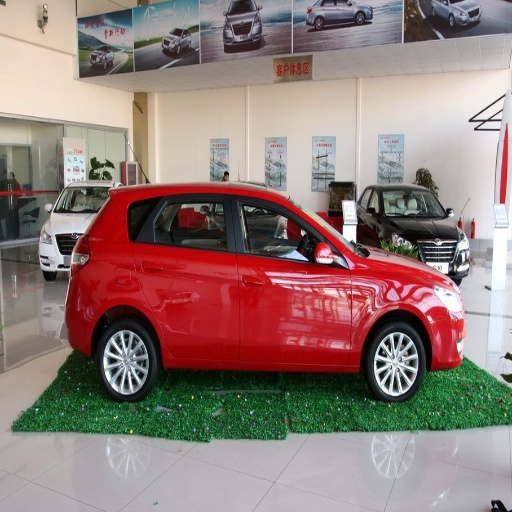back_right_door: (134, 193, 237, 356)
front_right_door: (236, 193, 353, 361)
